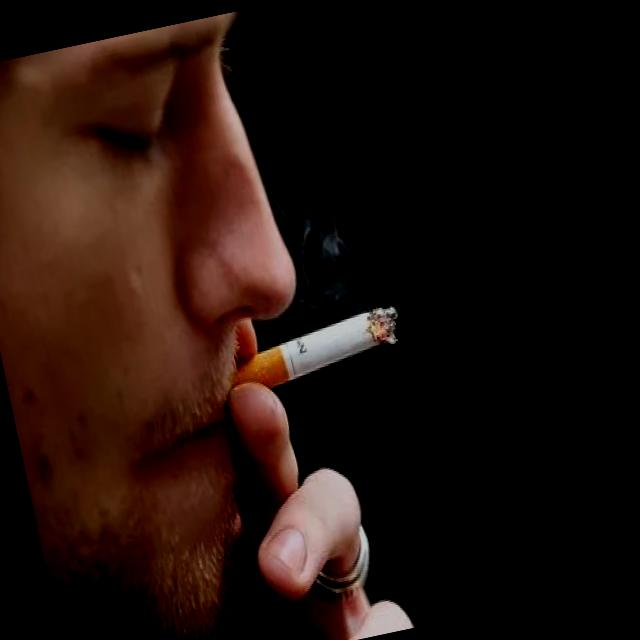cigarette: (218, 299, 416, 406)
